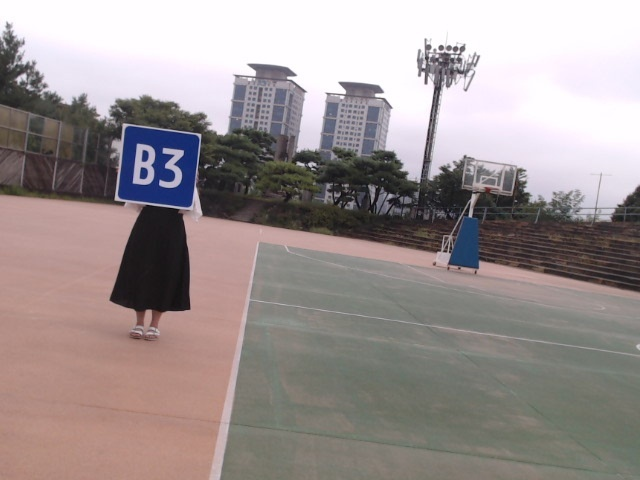delivery_b3: (118, 124, 200, 209)
